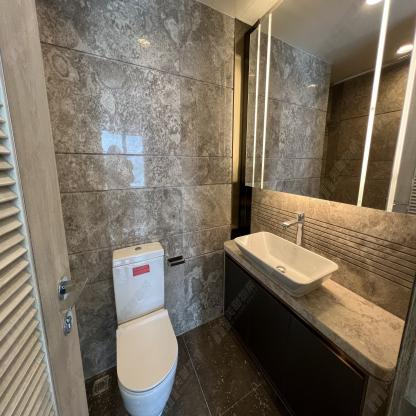Toilet: (112, 241, 178, 416)
Toilet Sink: (234, 231, 339, 297)
